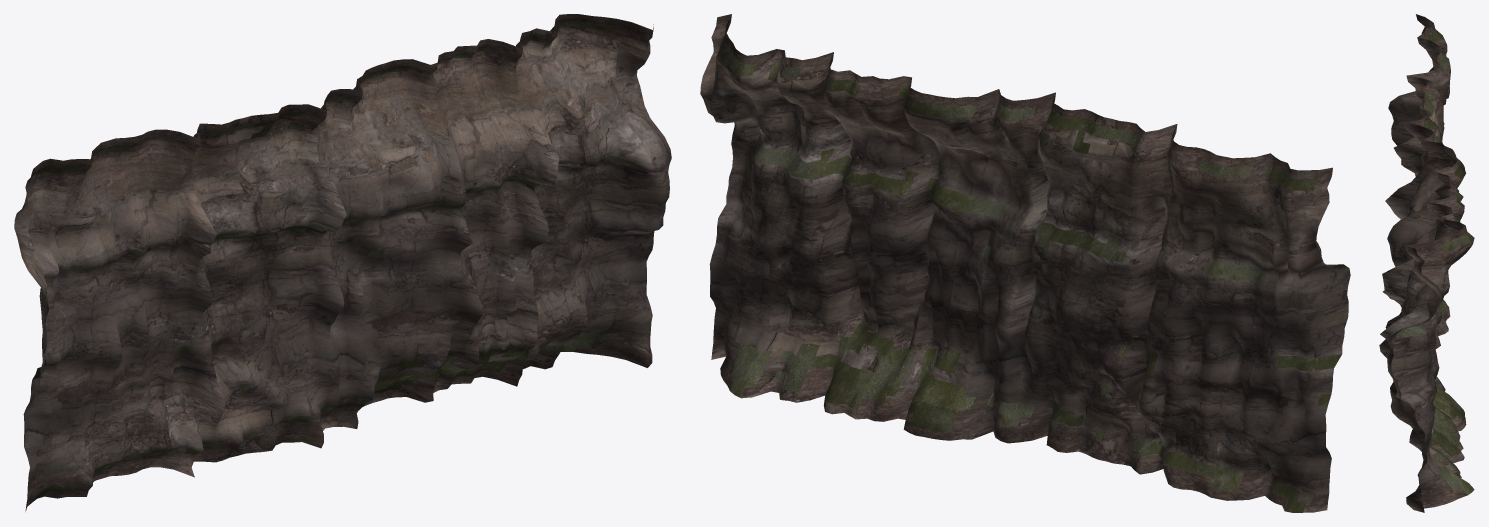
The model's file is cliff_wall_8m_deep.glb.
The picture shows the model from 3 angles, left to right: view 1: azimuth 30°, elevation 25°; view 2: azimuth 150°, elevation 25°; view 3: azimuth 270°, elevation 25°; orthographic projection. The views are drawn at different scales.
Visible parts, largest first — view 1: cliff_wall_8m_deep; view 2: cliff_wall_8m_deep; view 3: cliff_wall_8m_deep.
Part boxes in pixels (x1,y1,x2,y2): cliff_wall_8m_deep: (14, 14, 671, 511); cliff_wall_8m_deep: (700, 14, 1350, 512); cliff_wall_8m_deep: (1379, 14, 1474, 512).
Bounding box in the file's own units: 8 × 4.2 × 1.37.
Materials: 2 (2 with a texture image).
